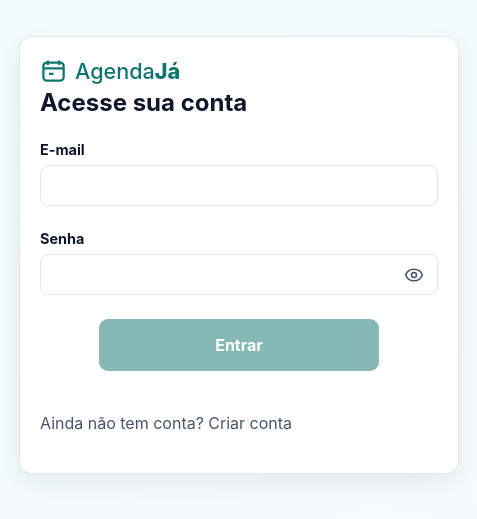
it: mantém o usuário no login quando as credenciais são inválidas
The image size is (477, 519).
Type "ana@aurora.com" into the field labelled "E-mail" at (239, 186), box [40,165,438,206]
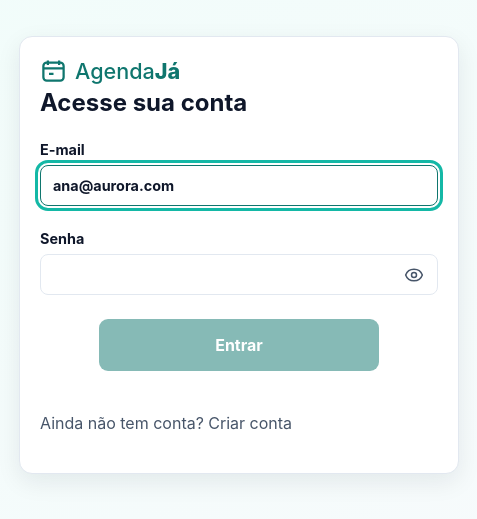
Type "senha-incorreta" into the password field labelled "Senha" at (239, 275), box [40,254,438,295]
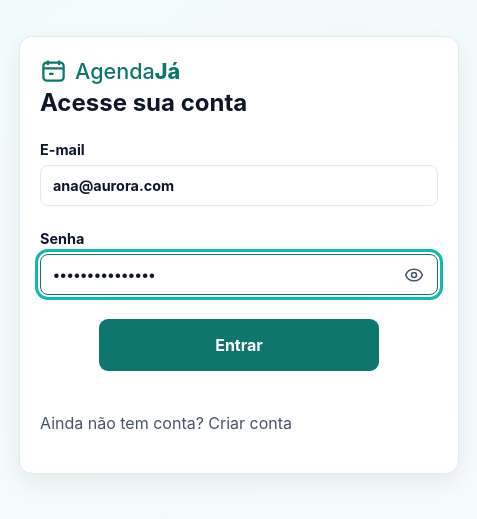
Expected: the button "Entrar" is enabled
Click the button "Entrar" at (239, 345), box [99,319,379,371]
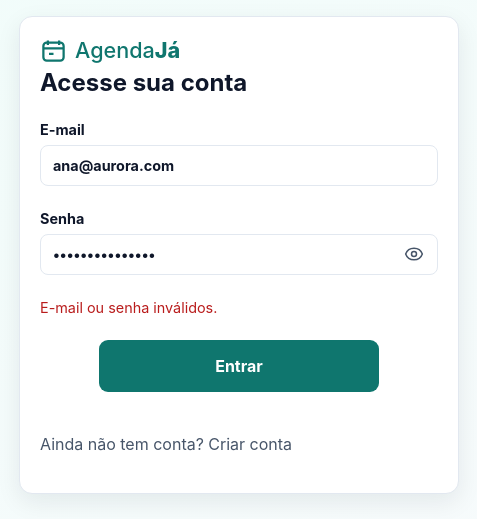
Expected: the message reads "E-mail ou senha inválidos.", [40,299,217,316]
